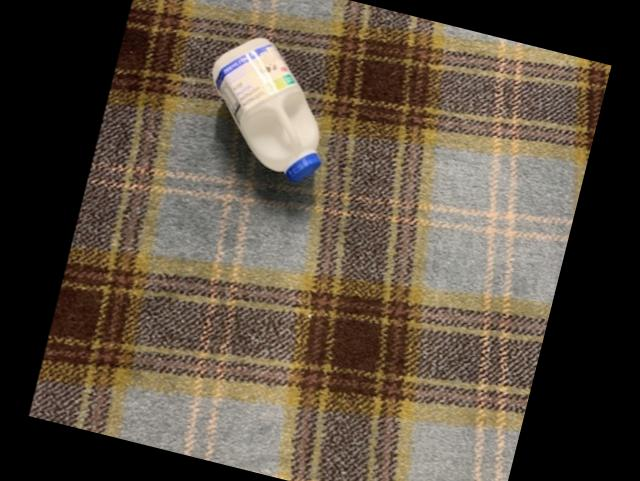plastic: (214, 39, 321, 182)
